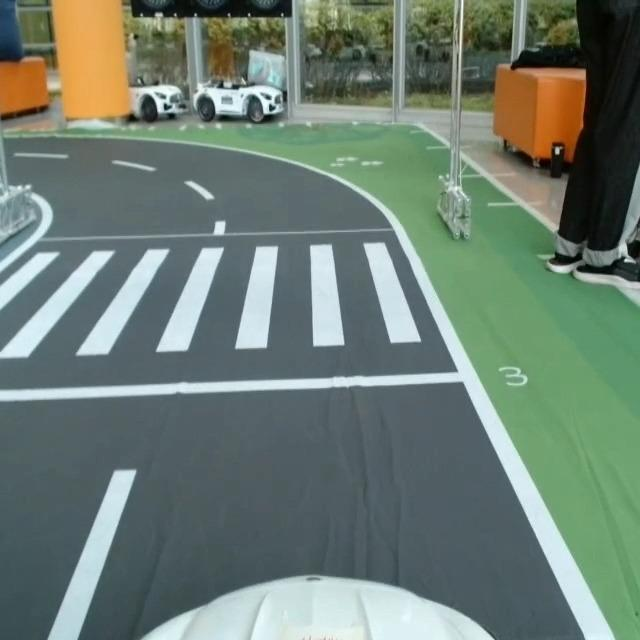traffic-light: (129, 0, 296, 21)
